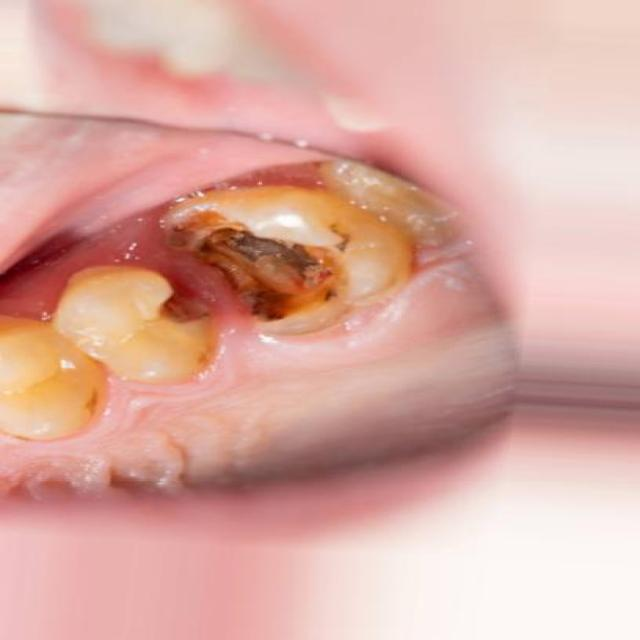caries: (145, 201, 357, 338)
